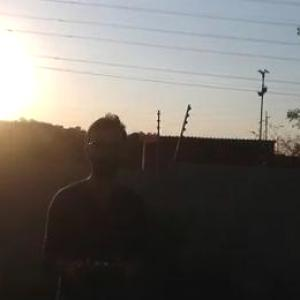follow: (34, 107, 152, 299)
